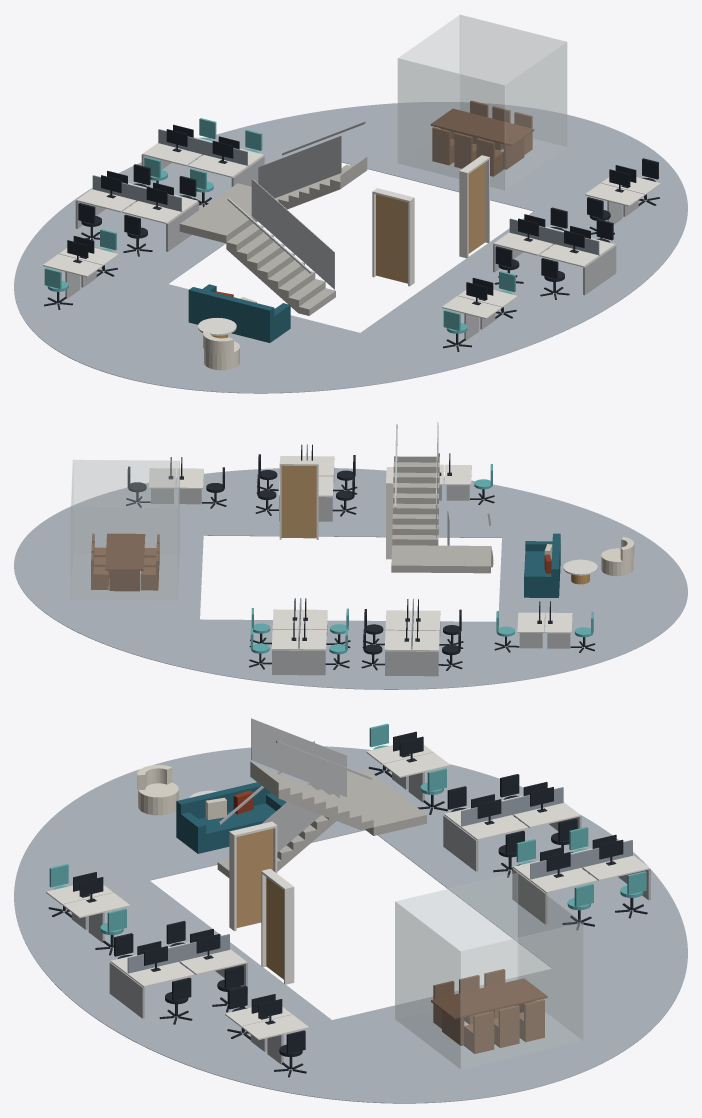
The picture shows the model from 3 angles, top to bottom: view 1: azimuth 30°, elevation 25°; view 2: azimuth 150°, elevation 25°; view 3: azimuth 270°, elevation 25°; orthographic projection. The views are drawn at different scales.
Visible parts, largest first — view 1: Floors, Furniture, Generic models, Stairs, Railings, Doors, Specialty equipment; view 2: Floors, Furniture, Generic models, Stairs, Doors, Specialty equipment, Railings; view 3: Floors, Furniture, Generic models, Doors, Stairs, Railings, Specialty equipment.
Part boxes in pixels (x1,y1,x2,y2): Floors: (14, 102, 687, 393); Furniture: (43, 100, 660, 370); Generic models: (397, 14, 567, 190); Stairs: (179, 157, 367, 315); Railings: (227, 121, 365, 289); Doors: (372, 155, 489, 286); Specialty equipment: (67, 124, 636, 305); Floors: (14, 468, 687, 689); Furniture: (91, 444, 634, 676); Generic models: (70, 460, 179, 600); Stairs: (391, 456, 493, 573); Doors: (279, 460, 393, 559); Specialty equipment: (168, 444, 552, 641); Railings: (394, 422, 490, 545); Floors: (14, 746, 687, 1103); Furniture: (46, 723, 650, 1077); Generic models: (395, 872, 583, 1069); Doors: (229, 821, 294, 984); Stairs: (217, 761, 426, 877); Railings: (219, 718, 371, 852); Specialty equipment: (73, 731, 623, 1024).
Size of the model in its own units: 17.46 by 4.03 by 13.91.
